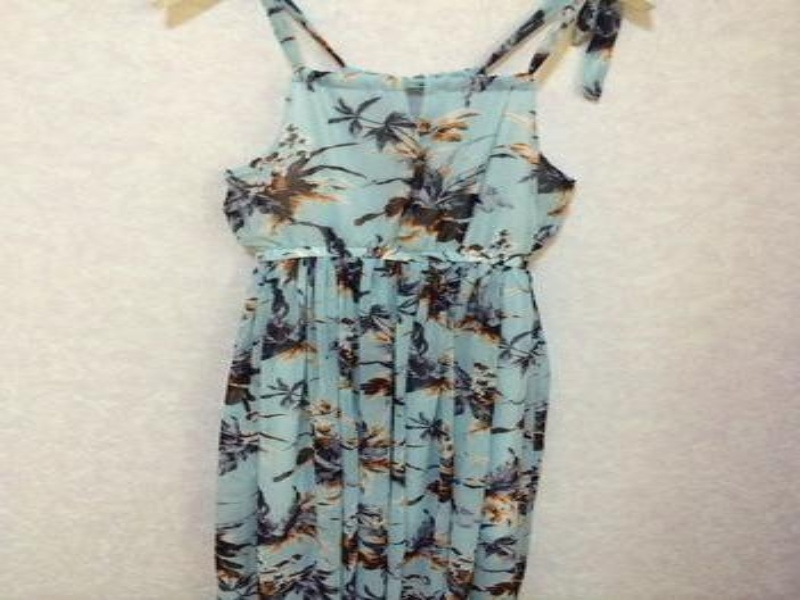sling_dress: (203, 0, 625, 599)
